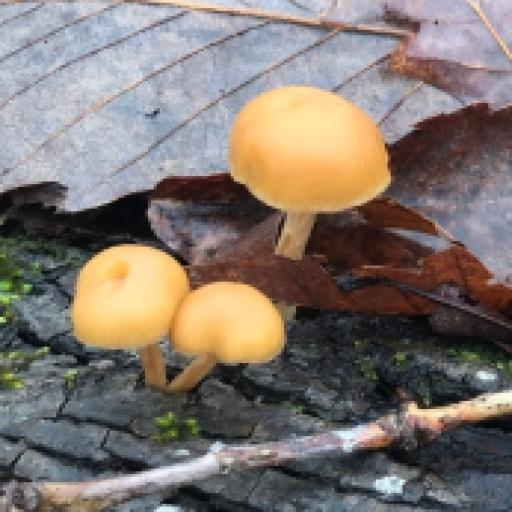mushroom: (54, 240, 290, 425), (218, 71, 404, 268)
